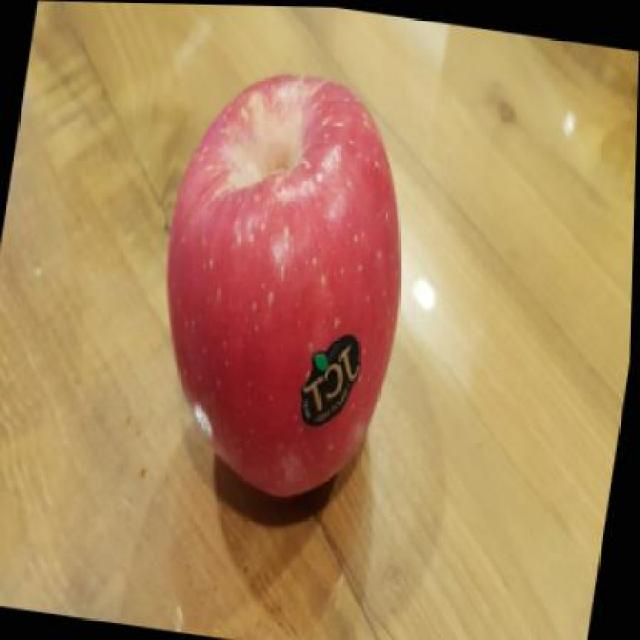Fresh Apple: (183, 86, 396, 487)
